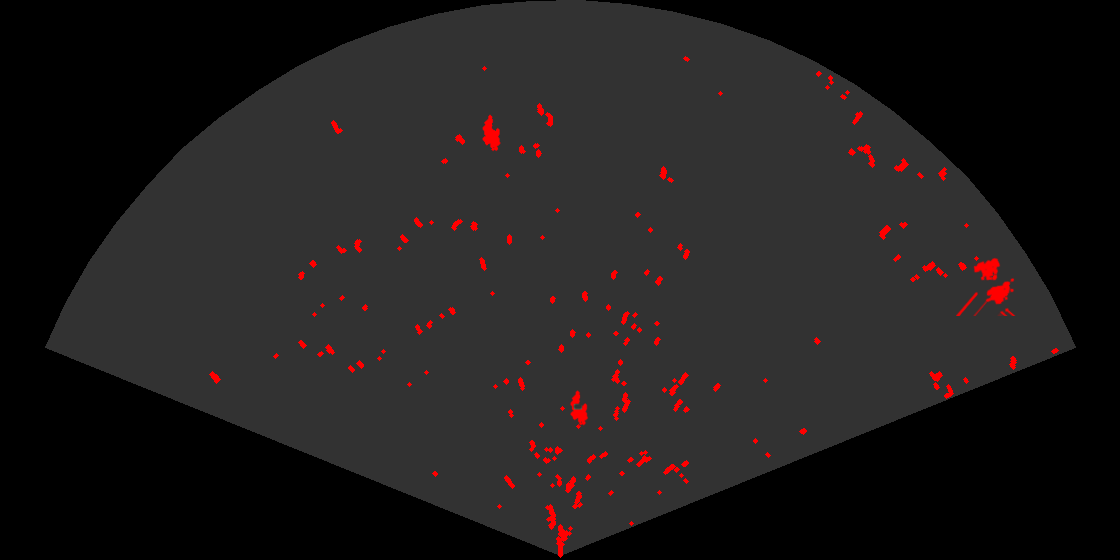AUV: (481, 113, 502, 153), (569, 389, 590, 427)
cage: (956, 256, 1017, 316)
